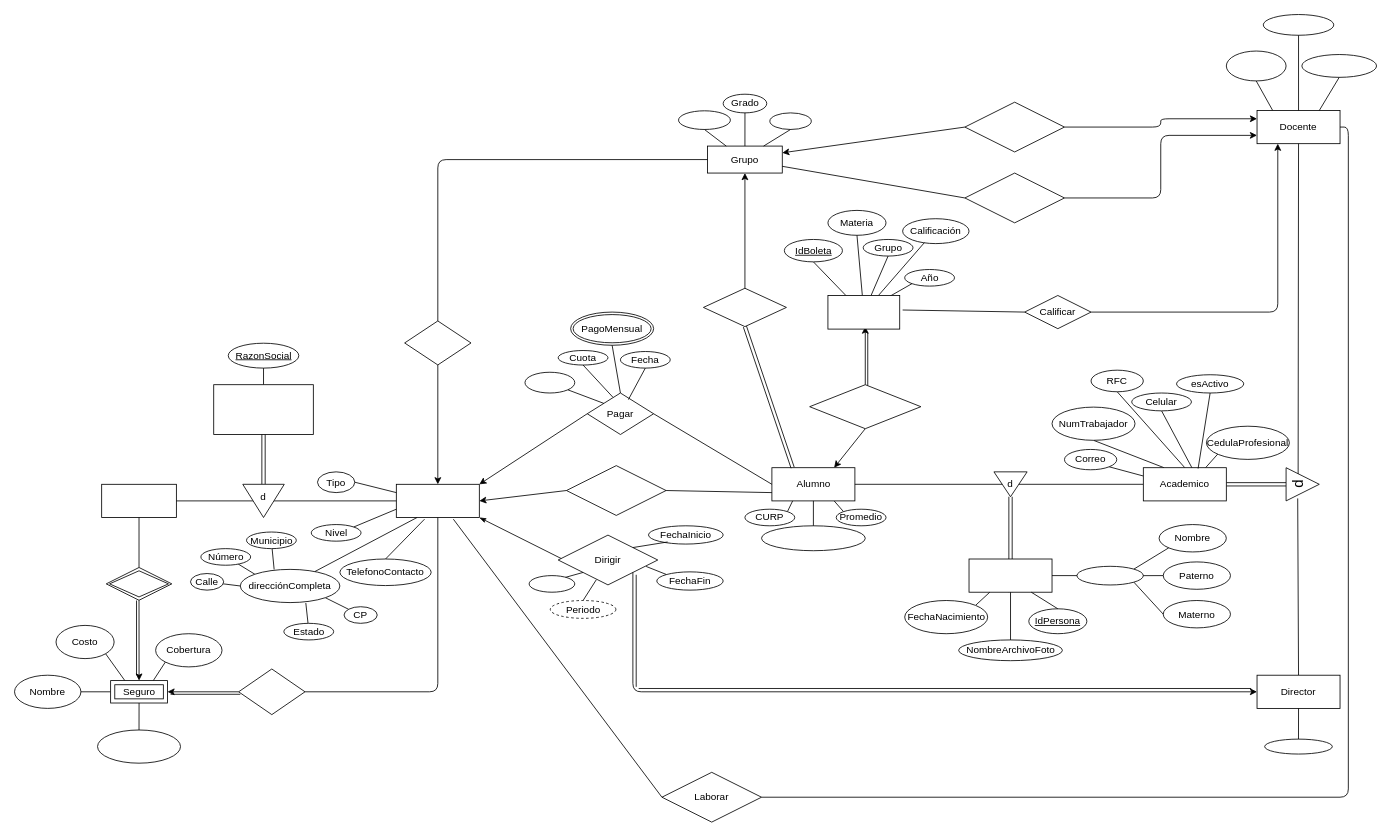
Some shapes in this 1391 by 837 pixel diagram are drawn without their labels. Here are the shapes that lost their labels. From the top down, the centre of each, then its label:
At (x=1298, y=24): "PagoContrato".
At (x=1255, y=65): "TipoContrato".
At (x=1339, y=65): "SueldoMensual".
At (x=704, y=119): "IdGrupo".
At (x=790, y=120): "Cupo".
At (x=1014, y=126): "Titular".
At (x=1014, y=197): "Impartir".
At (x=744, y=307): "Pertenecer".
At (x=863, y=312): "Boleta".
At (x=437, y=342): "Poseer".
At (x=549, y=382): "Corriente".
At (x=263, y=409): "Organización".
At (x=865, y=406): "Tener_Bol".
At (x=138, y=500): "Aseguradora".
At (x=437, y=500): "Escuela".
At (x=616, y=490): "Estudiar".
At (x=813, y=538): "ContactoEmergencia".
At (x=138, y=583): "Proveer".
At (x=551, y=583): "Bono".
At (x=1010, y=575): "Persona".
At (x=1109, y=575): "NombreC".
At (x=271, y=691): "Tener".
At (x=139, y=746): "IdSeguro".
At (x=1298, y=746): "Sueldo".
